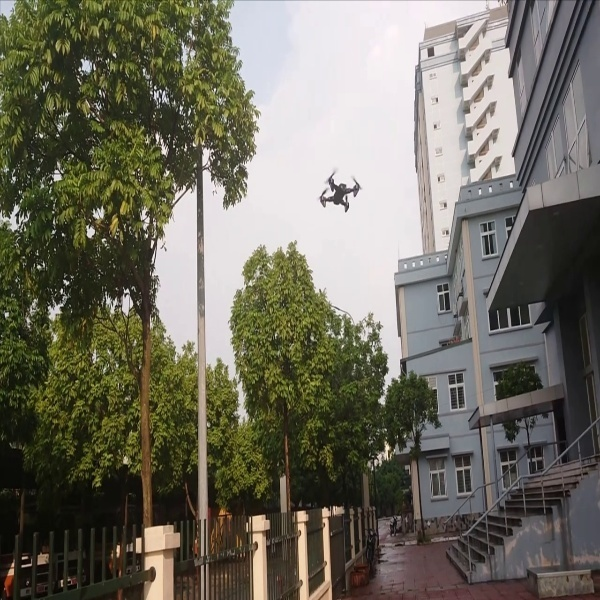drone: (297, 157, 383, 227)
